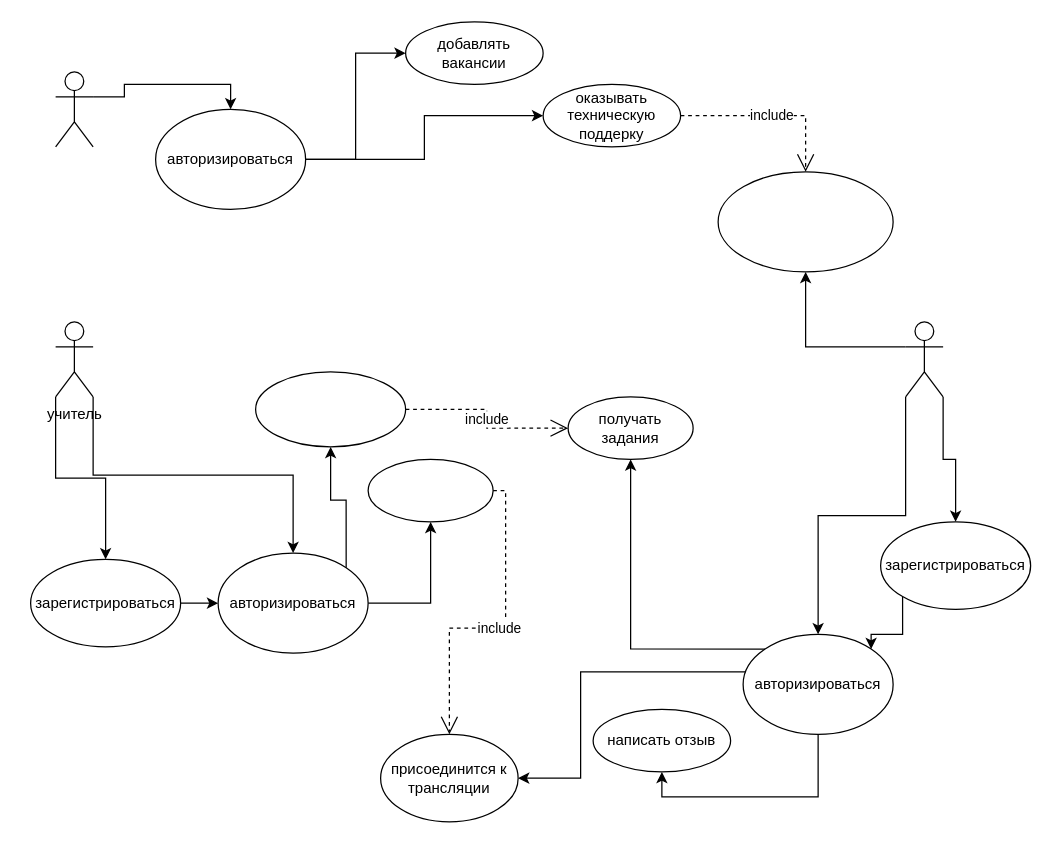
Some shapes in this 1053 by 844 pixel diagram are drawn without their labels. Here are the shapes that lost their labels. From the top down, the centre of each, then its label:
pixel 73 109: администратор
pixel 805 221: позвонить по номеру который находится в разжеде "контакты"
pixel 923 359: ученик
pixel 330 409: добавлять задания
pixel 430 490: начинать трансляцию
